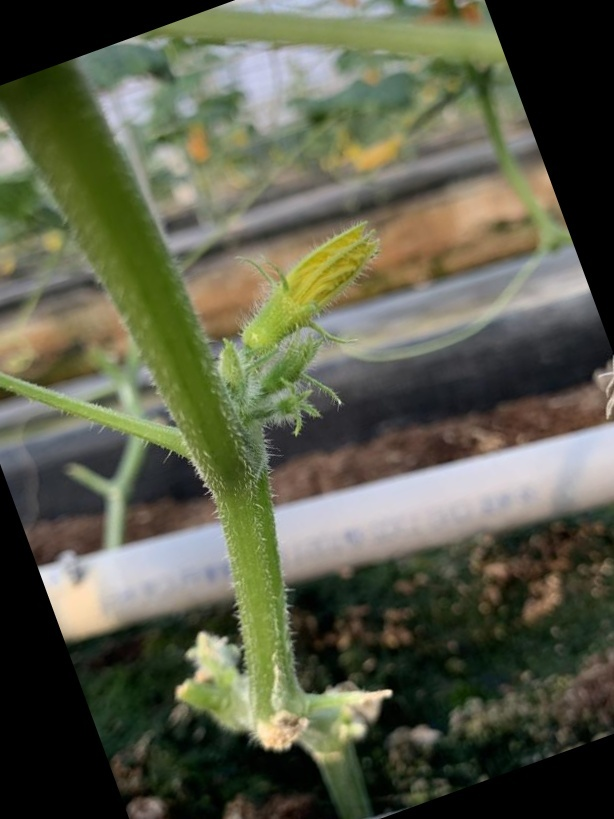bud: (244, 220, 386, 354)
